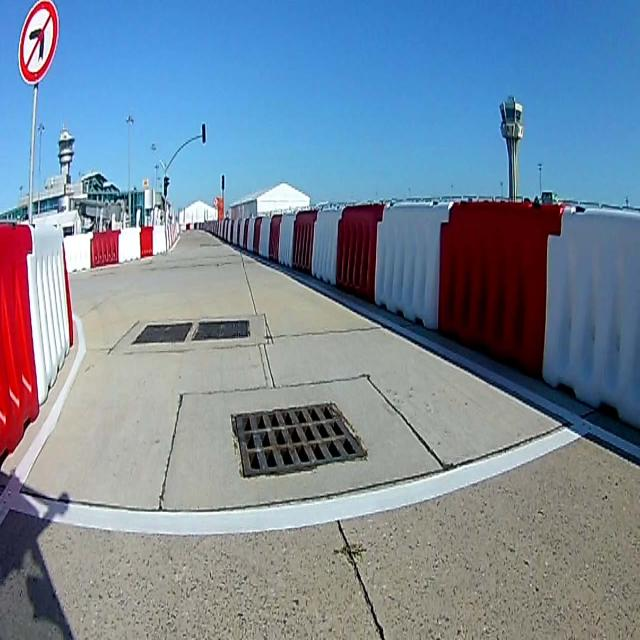soladonulmez: (18, 1, 59, 83)
